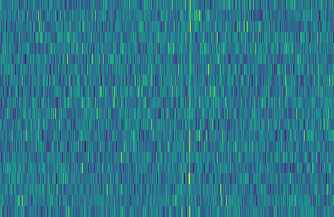signal: (184, 0, 194, 217)
